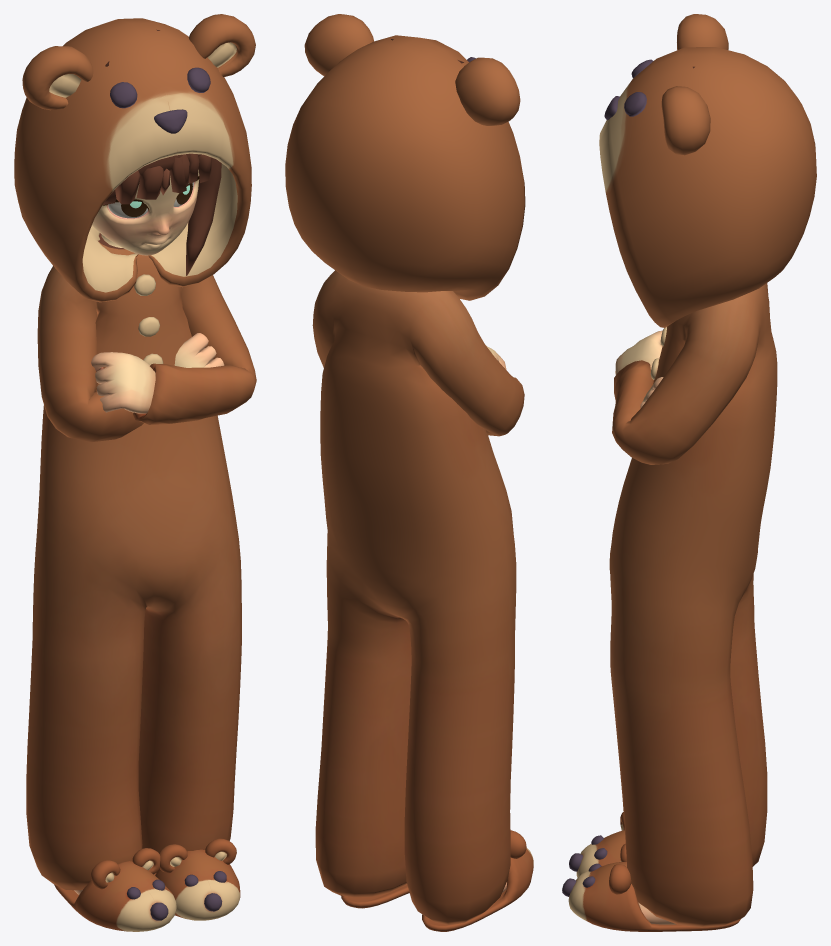
Rendered from lain.glb.
The picture shows the model from 3 angles, left to right: view 1: azimuth 30°, elevation 25°; view 2: azimuth 150°, elevation 25°; view 3: azimuth 270°, elevation 25°; orthographic projection.
Visible parts, largest first — view 1: body; view 2: body; view 3: body.
Boxes of the visible parts, x1,y1,x2,y2 form: body: [14, 14, 256, 931]; body: [285, 14, 533, 931]; body: [562, 14, 816, 931].
Bounding box in the file's own units: 1.3 × 4.86 × 1.32.
1 material, 1 textured.
